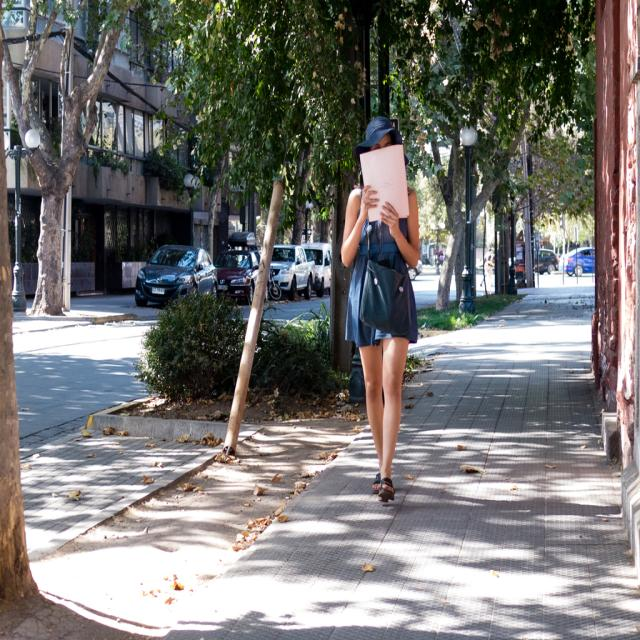car: (128, 232, 214, 299)
